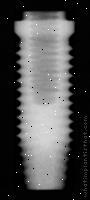Biomet 3i: (14, 11, 75, 191)
